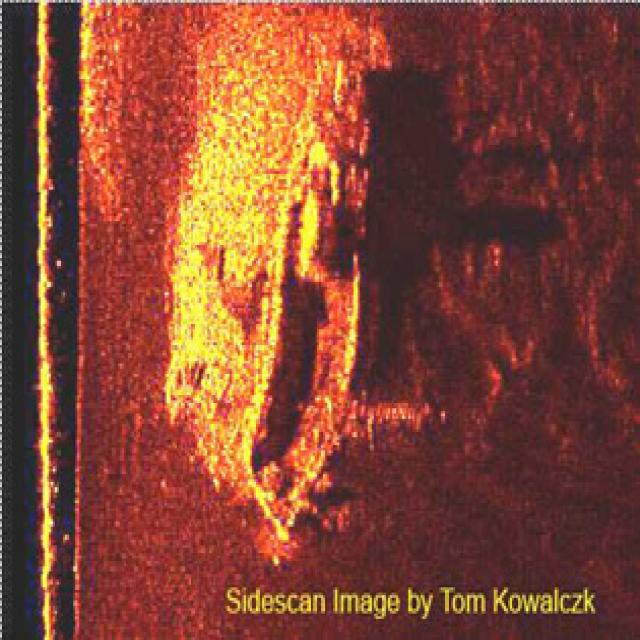ship: (242, 55, 360, 532)
